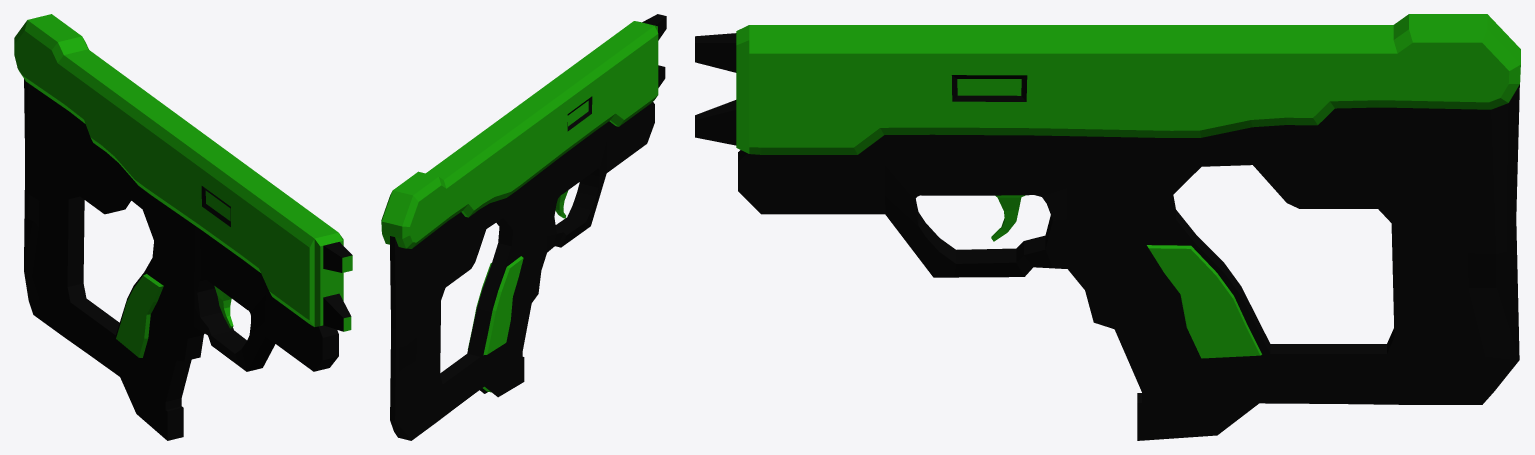
File: Pistol.fbx
3 renders of one model, left to right at view 1: azimuth 30°, elevation 25°; view 2: azimuth 150°, elevation 25°; view 3: azimuth 270°, elevation 25°, orthographic. The views are drawn at different scales.
Visible parts, largest first — view 1: Cube; view 2: Cube; view 3: Cube.
Boxes of the visible parts, x1,y1,x2,y2 form: Cube: [14, 14, 352, 440]; Cube: [381, 14, 666, 440]; Cube: [695, 14, 1520, 440].
Size of the model in its own units: 23.77 by 216 by 390.
